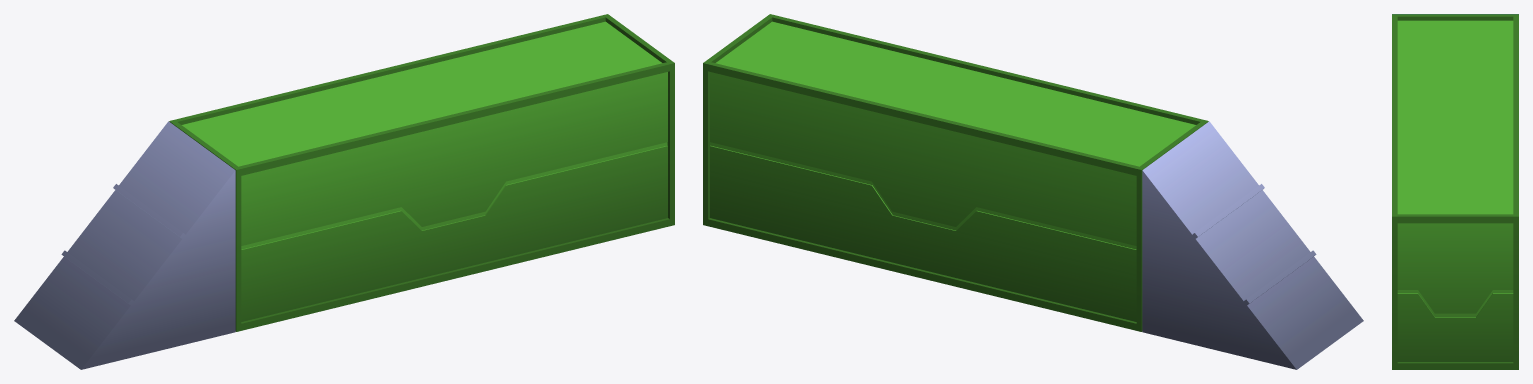
Rendered from ramp-JiM1jr7K.obj.
The picture shows the model from 3 angles, left to right: view 1: azimuth 30°, elevation 25°; view 2: azimuth 150°, elevation 25°; view 3: azimuth 270°, elevation 25°; orthographic projection. The views are drawn at different scales.
Parts seen in each view (by area): view 1: Ramp; view 2: Ramp; view 3: Ramp.
Part boxes in pixels (x1,y1,x2,y2): Ramp: (14,14,674,369); Ramp: (703,14,1363,369); Ramp: (1392,14,1518,369).
Size of the model in its own units: 23.01 by 6 by 4.5.
